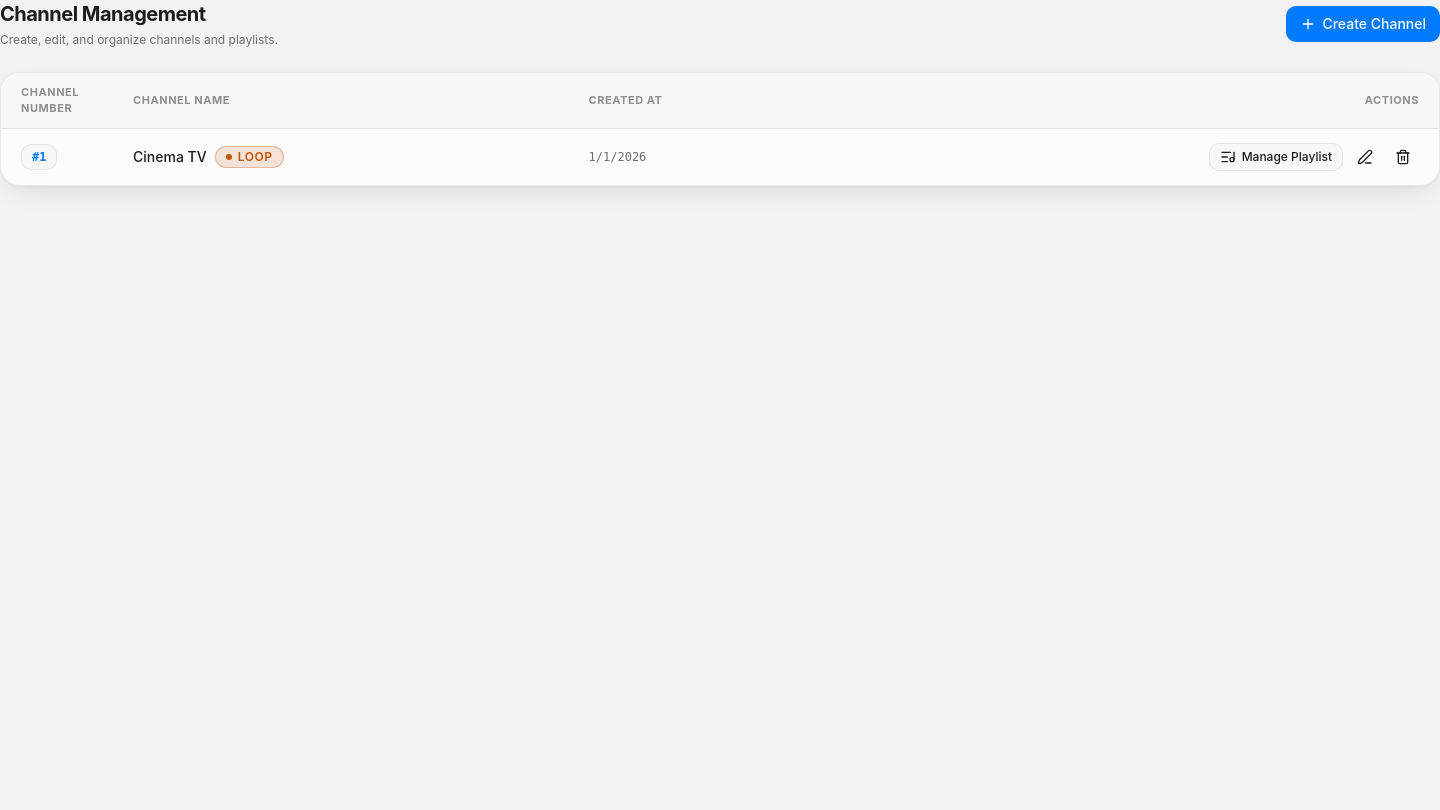
Test: ChannelsPage › shows server 409 duplicate-number message inline in channel modal
expect the text "Cinema TV" is shown: met, box 133,147 -> 207,167
Click the button "Create Channel" at (1363, 24), box 1286,6 -> 1439,42
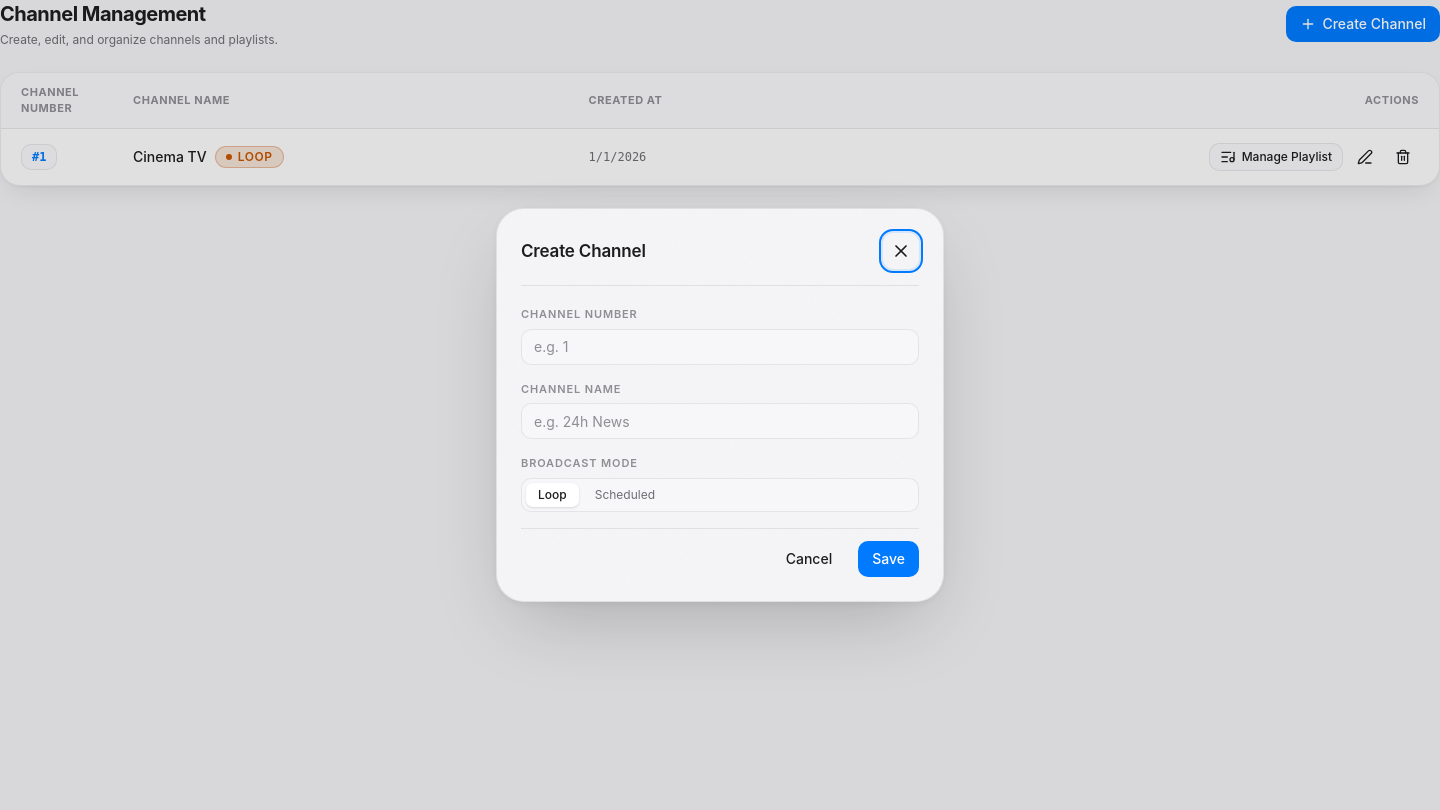
Type "1" into the number field labelled "Channel Number" at (720, 347), box 521,329 -> 919,365
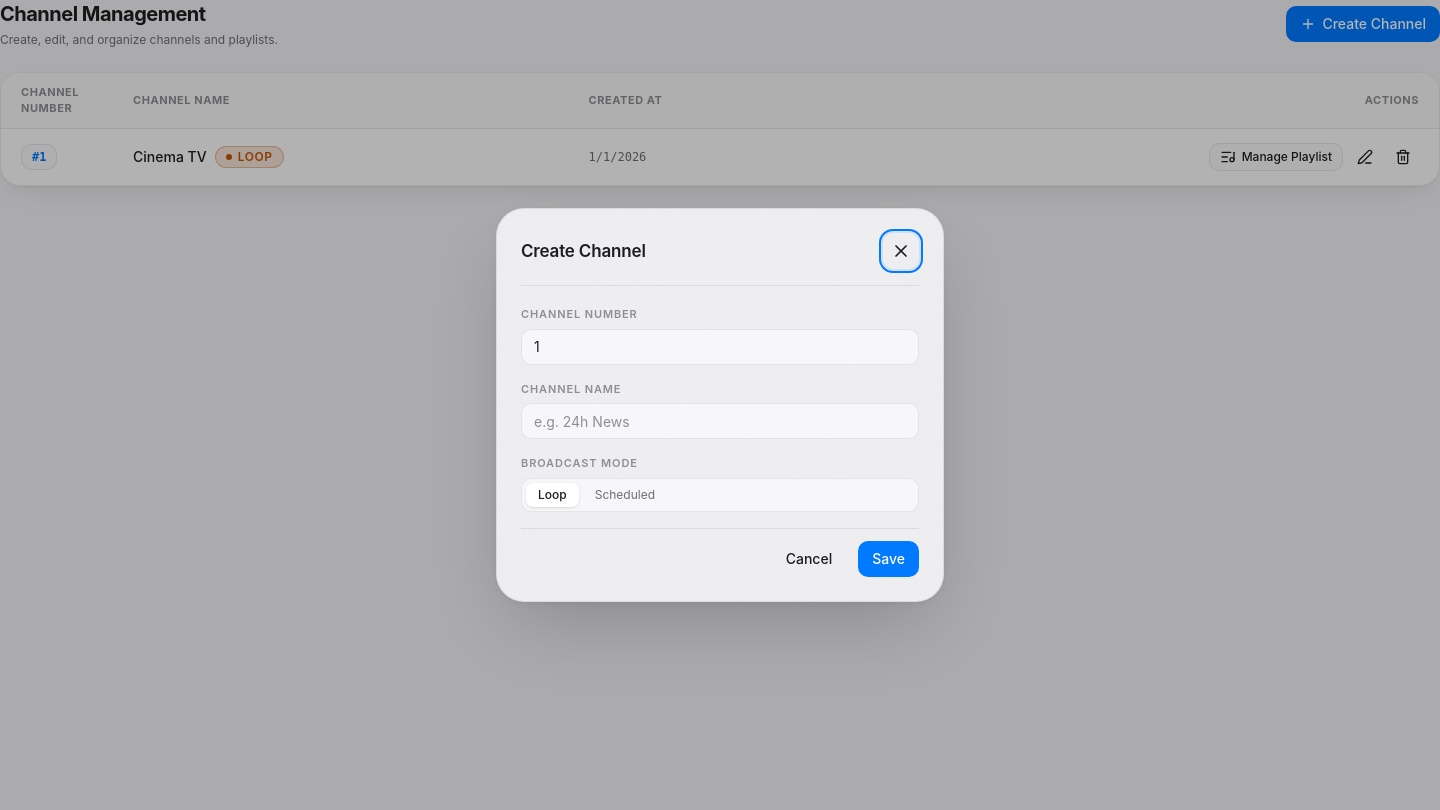
Type "Duplicate News" into the field labelled "Channel Name" at (720, 421), box 521,403 -> 919,439
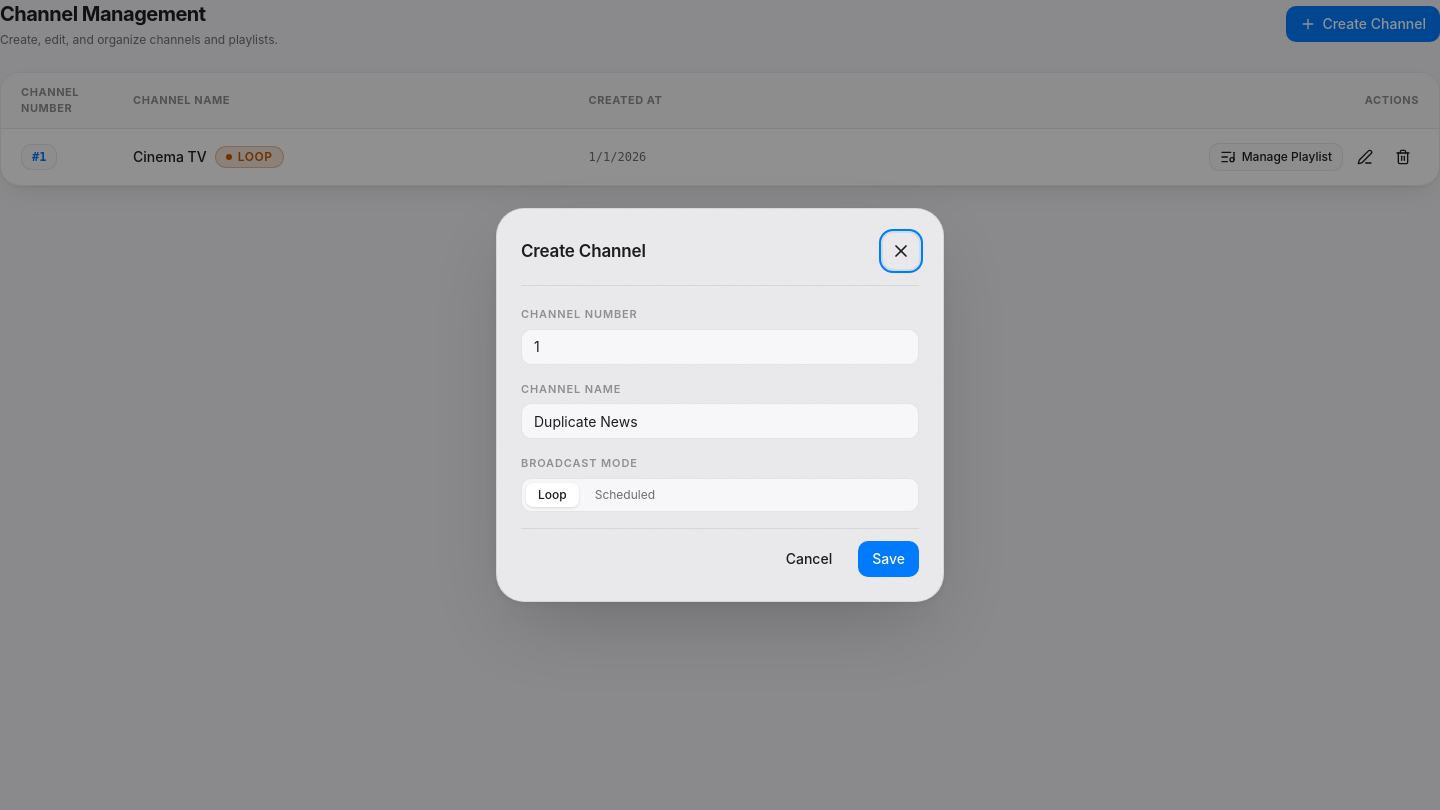
Click the button "Save" at (889, 559), box 858,541 -> 919,577
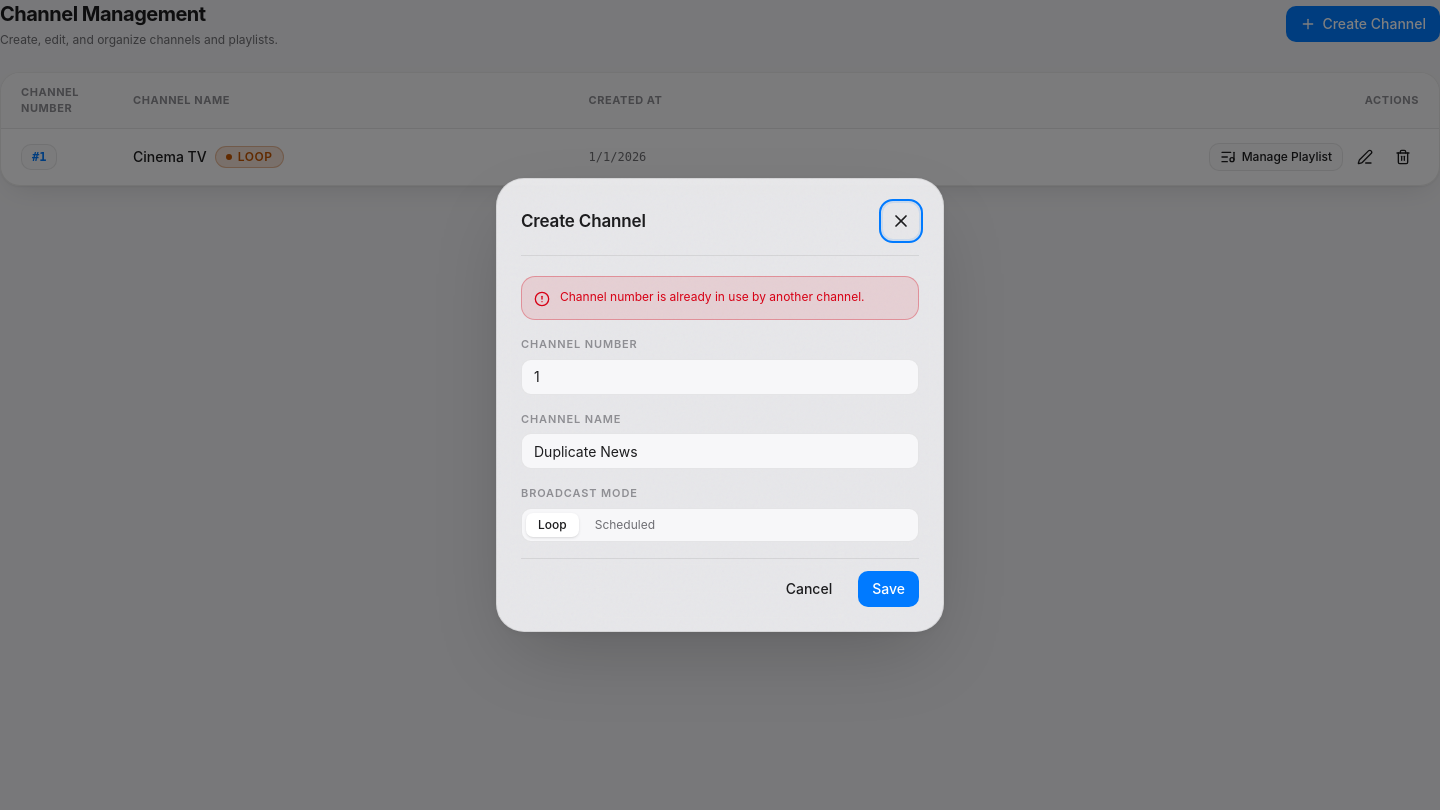
expect the text "Channel number is already in use by another channel." is shown: met, box 560,289 -> 864,305
